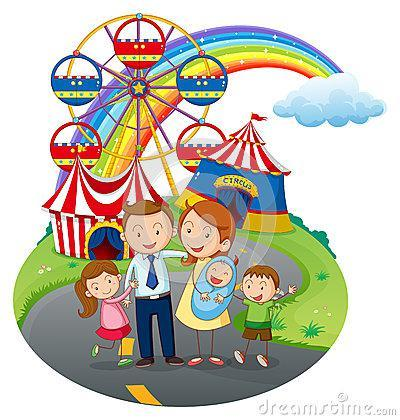person: (112, 197, 186, 371), (172, 201, 237, 368), (69, 256, 135, 370), (236, 264, 280, 371), (189, 250, 239, 323)
